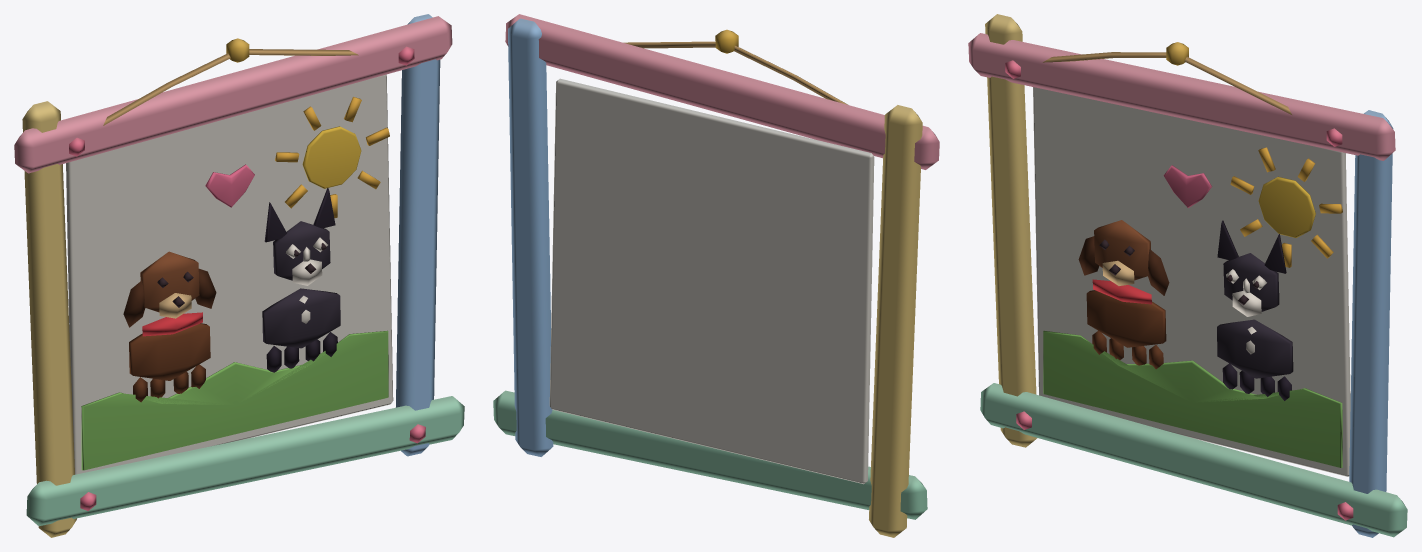
File: furn-packPhoto.glb
3 renders of one model, left to right at view 1: azimuth 30°, elevation 25°; view 2: azimuth 150°, elevation 25°; view 3: azimuth 330°, elevation 25°, orthographic. The views are drawn at different scales.
Parts seen in each view (by area): view 1: furn-packPhoto; view 2: furn-packPhoto; view 3: furn-packPhoto.
Part boxes in pixels (<box>): furn-packPhoto: <box>14,14,464,537</box>; furn-packPhoto: <box>493,14,939,537</box>; furn-packPhoto: <box>968,14,1407,537</box>.
Bounding box in the file's own units: 0.4631 × 0.4611 × 0.0417.
